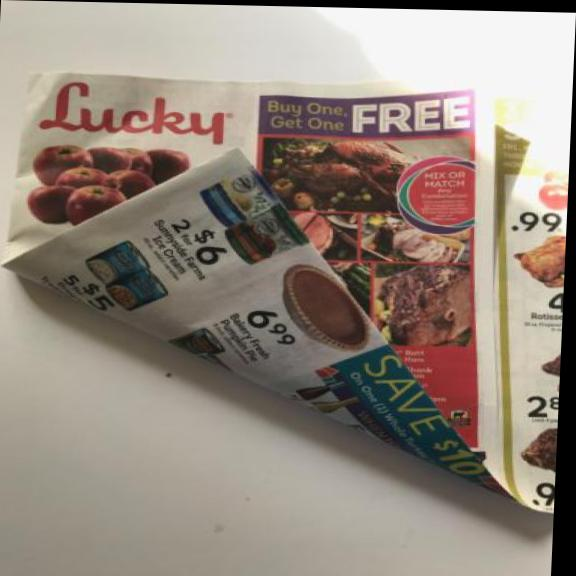Kertas: (0, 62, 572, 522)
